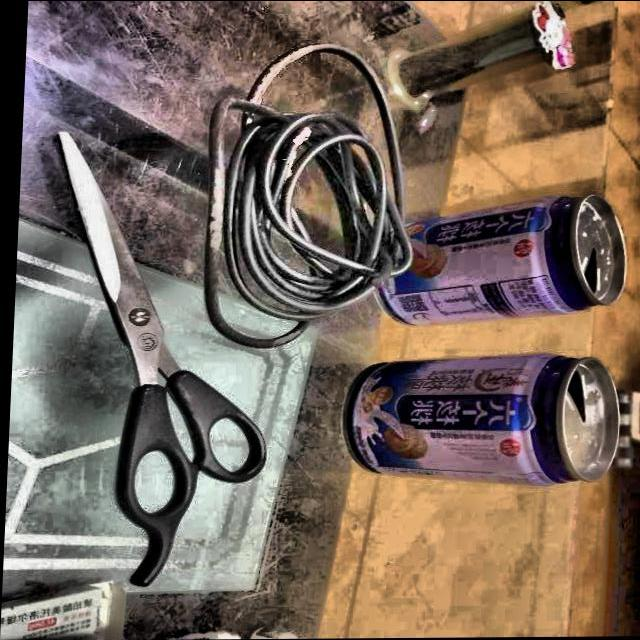litter: (335, 346, 632, 492), (372, 194, 638, 332)
